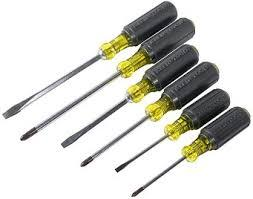screwdriver: (18, 17, 194, 140), (1, 0, 177, 118), (79, 61, 219, 167), (59, 43, 198, 147), (130, 106, 250, 197), (113, 88, 230, 172)
